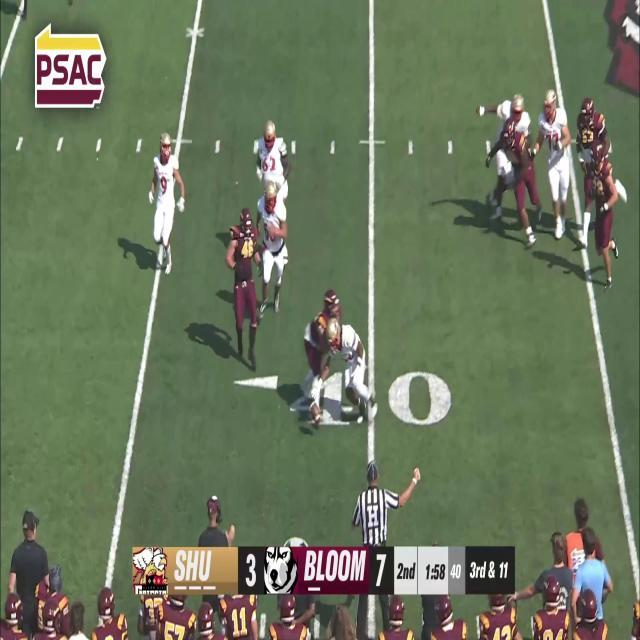football: (308, 401, 322, 424)
